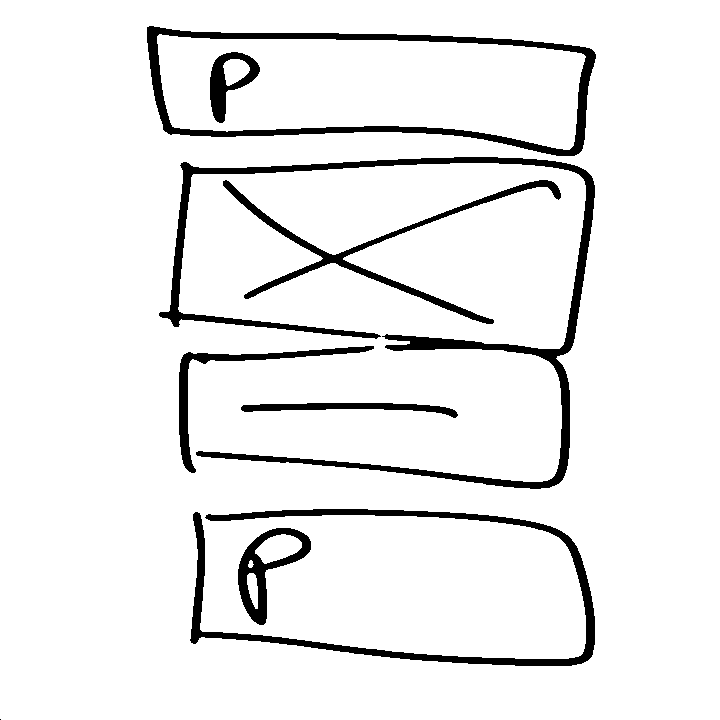button: (173, 339, 576, 495)
paragraph: (187, 504, 605, 673), (144, 22, 600, 158)
picture: (160, 154, 598, 358)
